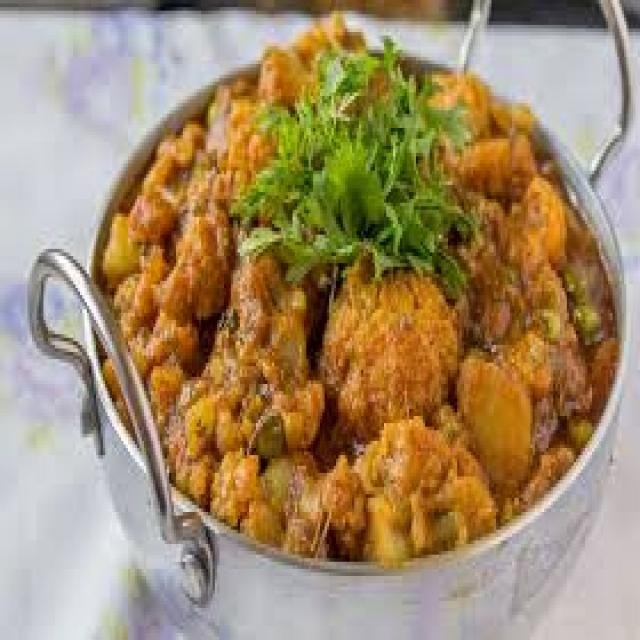Aloo Gobi: (166, 46, 563, 550)
